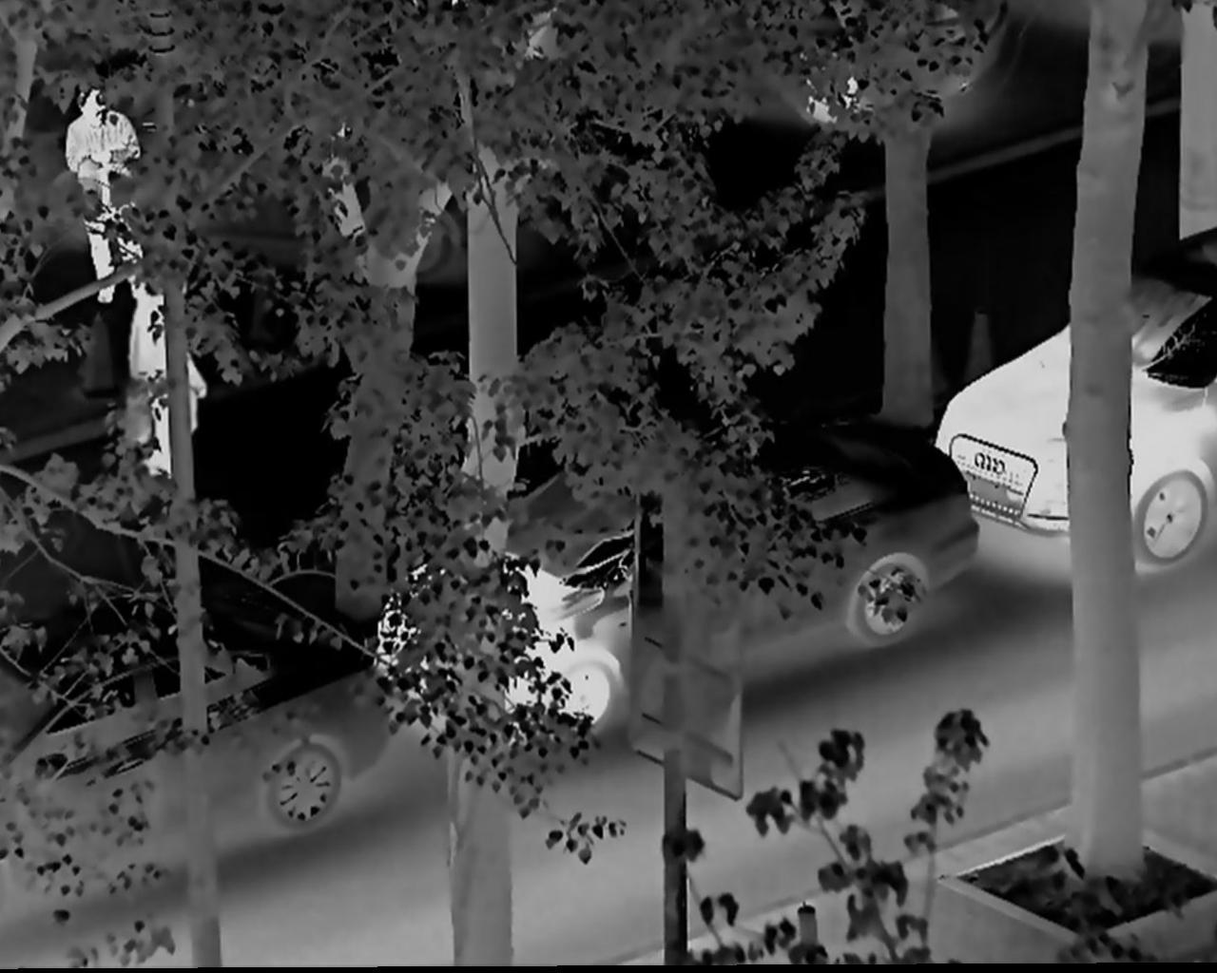person: (58, 86, 156, 308), (128, 279, 205, 468)
